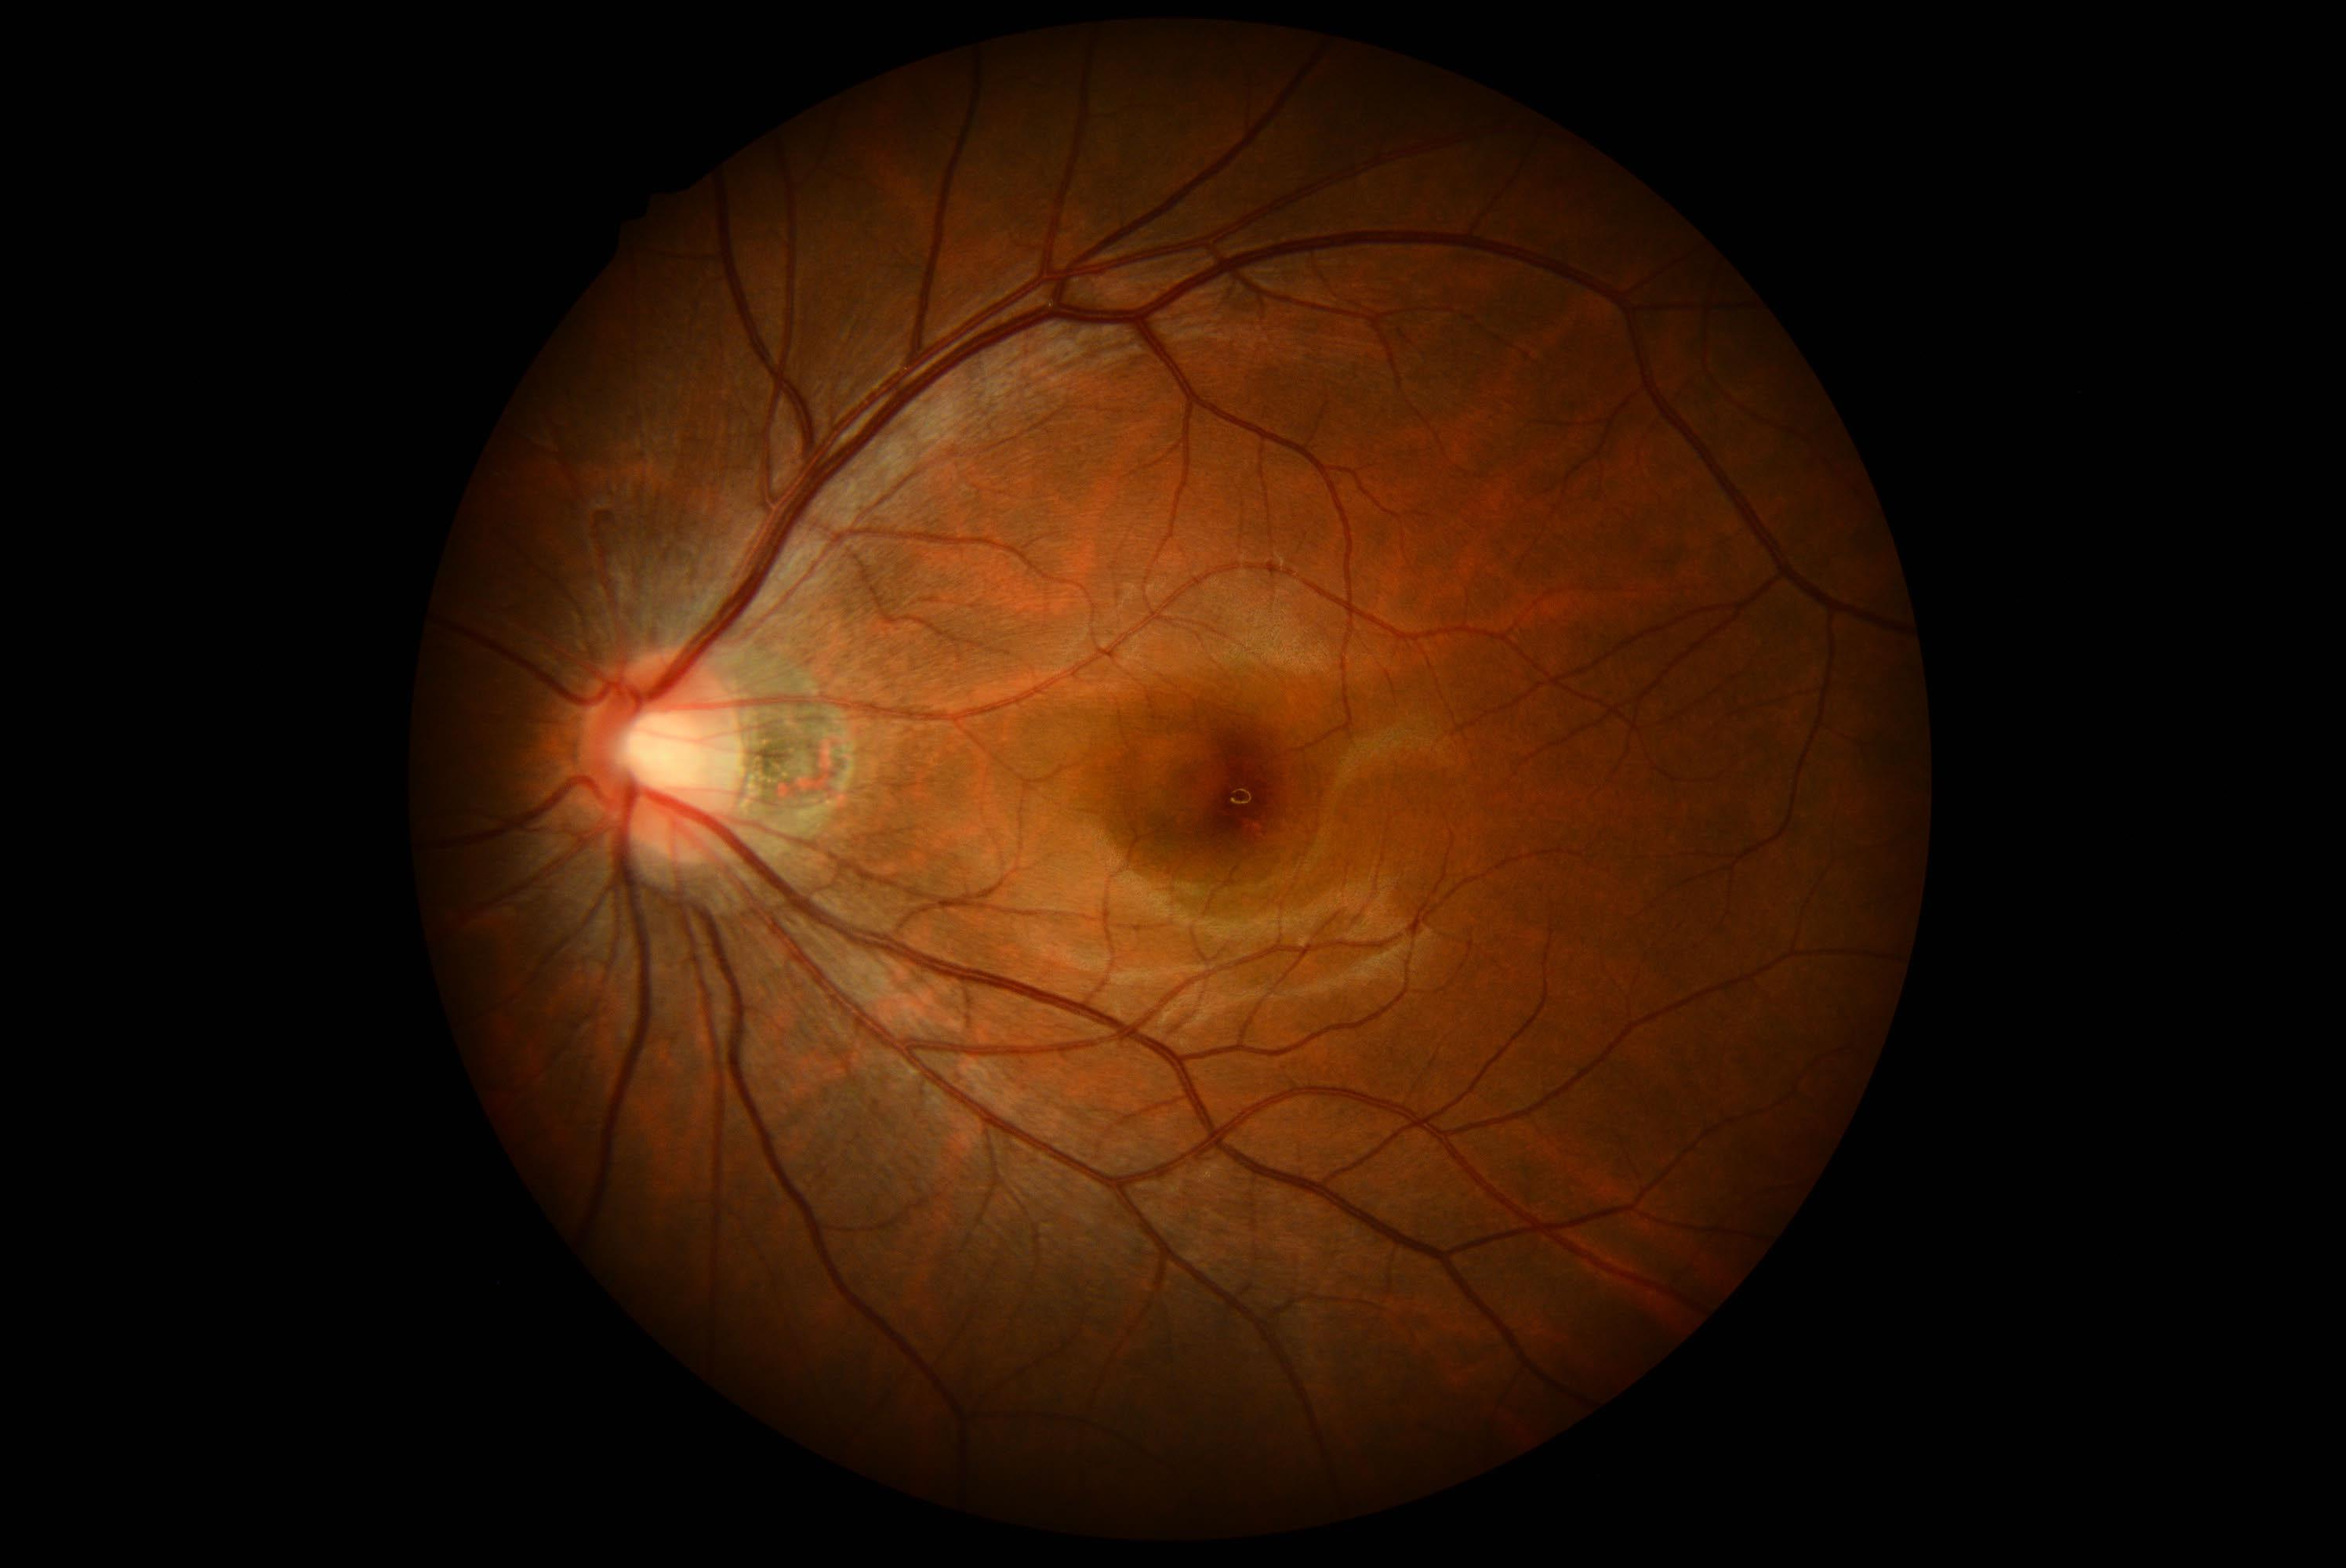Fovea: (1165, 716, 1316, 866)
